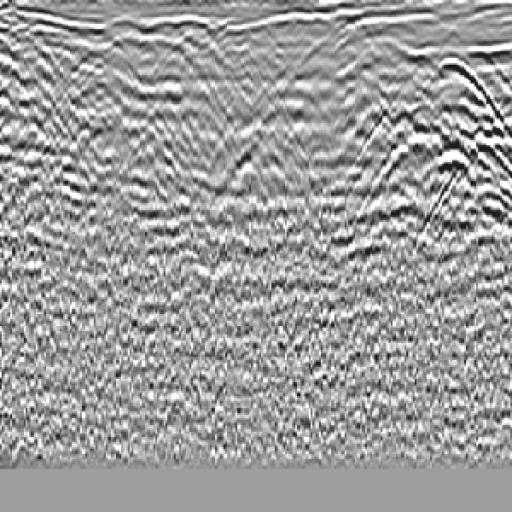non-metallic: (359, 40, 512, 298)
